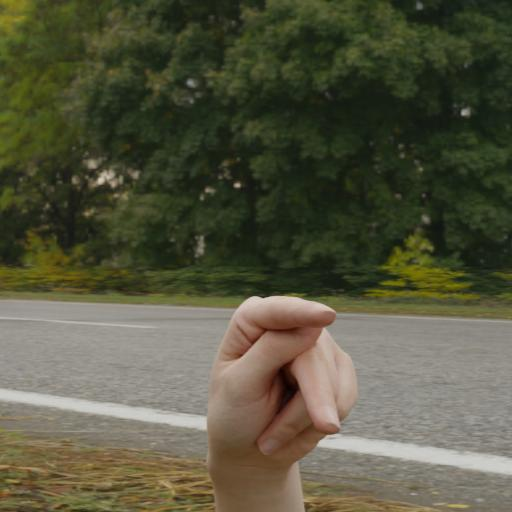P: (196, 284, 390, 501)
